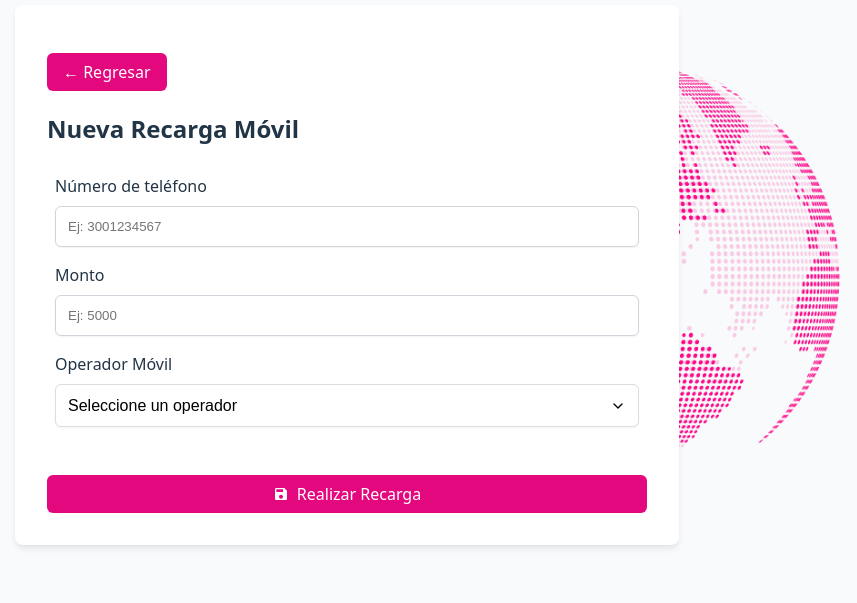
NewRecharge › muestra error si el monto es menor a 1000
The width and height of the screenshot is (857, 603).
Expected: the heading "Nueva Recarga Móvil" is shown, [47,112,299,144]
Type "500" into the number field with placeholder "Ej: 5000". click: (347, 316)
box: [55,295,639,336]
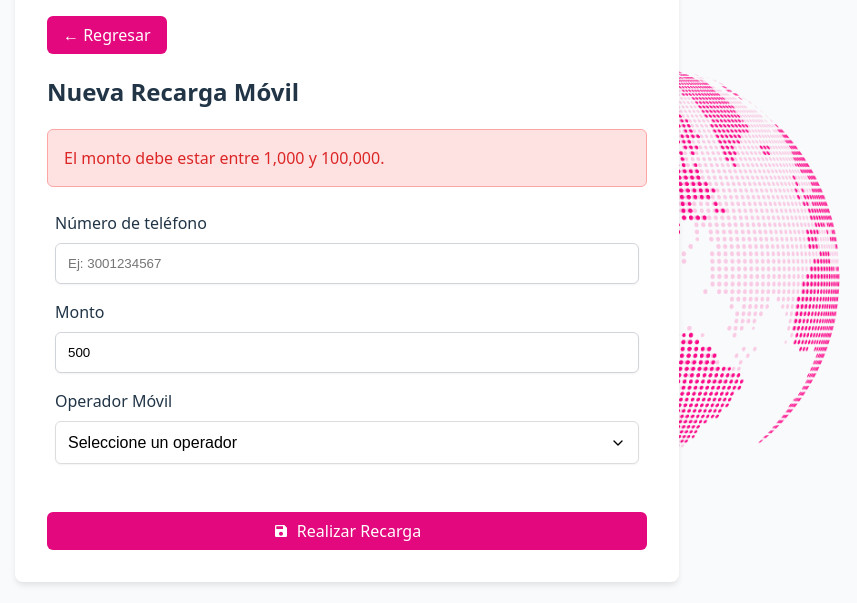
Expected: the text "El monto debe estar entre 1,000 y 100,000." is shown, [47,129,647,187]
